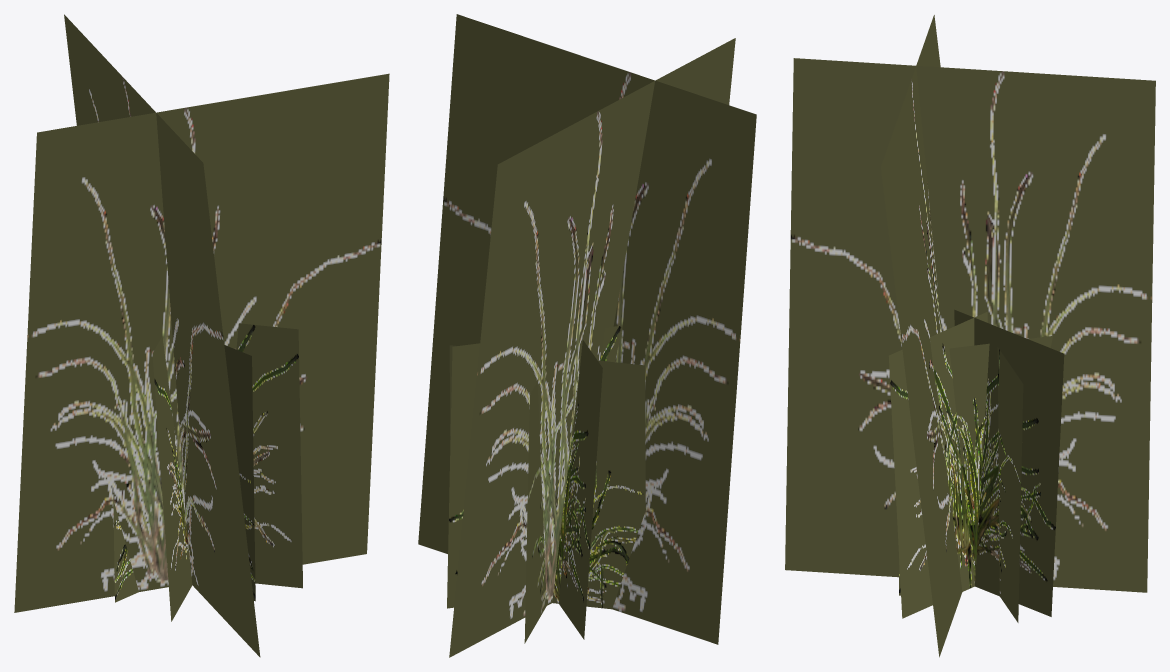
Rendered from tuft.glb.
The picture shows the model from 3 angles, left to right: view 1: azimuth 30°, elevation 25°; view 2: azimuth 150°, elevation 25°; view 3: azimuth 270°, elevation 25°; orthographic projection. The views are drawn at different scales.
Parts seen in each view (by area): view 1: tuft; view 2: tuft; view 3: tuft.
Part boxes in pixels (bbox=[...]): tuft: bbox=[14, 14, 389, 657]; tuft: bbox=[418, 14, 756, 657]; tuft: bbox=[785, 15, 1155, 657].
Bounding box in the file's own units: 0.5549 × 0.8045 × 0.5549.
1 material, 1 textured.
